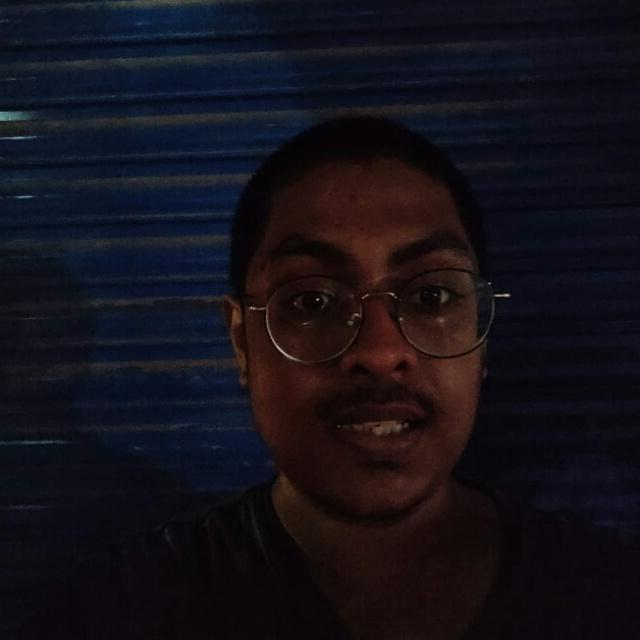angry: (180, 113, 526, 546)
